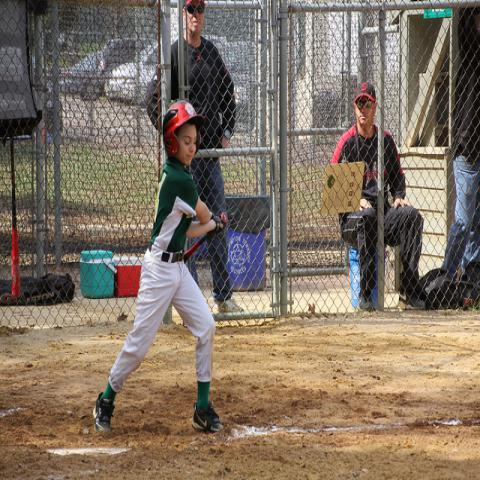car: (214, 40, 256, 130), (105, 44, 159, 104), (96, 37, 154, 89), (60, 50, 102, 101)
